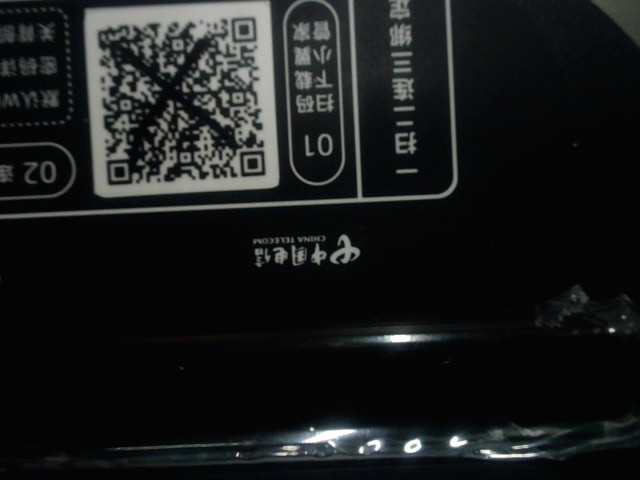AB_ChinaTelecom: (240, 227, 366, 273)
